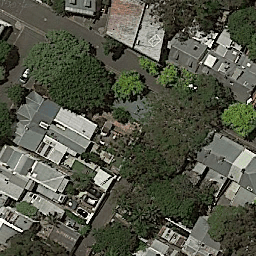car: (19, 64, 32, 84), (82, 193, 97, 208), (87, 185, 102, 199), (77, 205, 88, 219)
